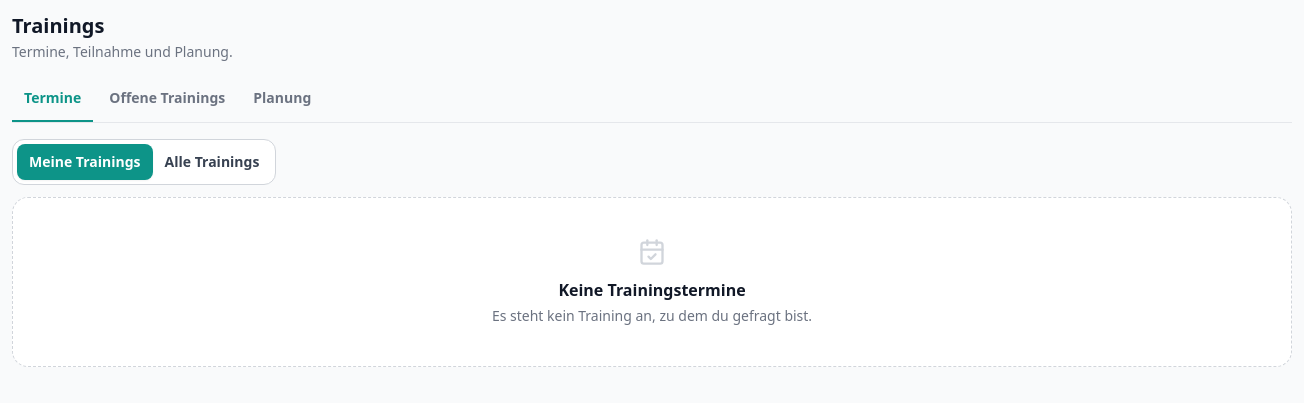
Test: TrainingsPage, Tab „Planung“ › listet jedes Training mit Zeitpunkt und Rhythmus
Step 1. Click the tab "Planung" → point(282, 100), box [241,78,323,122]
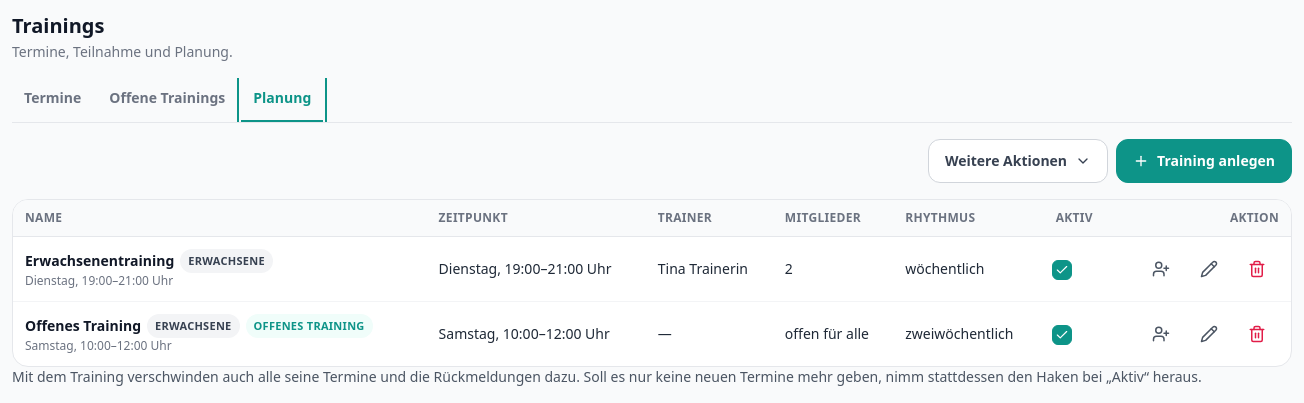
Check: the text "Dienstag, 19:00–21:00 Uhr" is shown, box [25,272,173,289]
Check: the text "zweiwöchentlich" is shown, box [893,302,1040,366]
